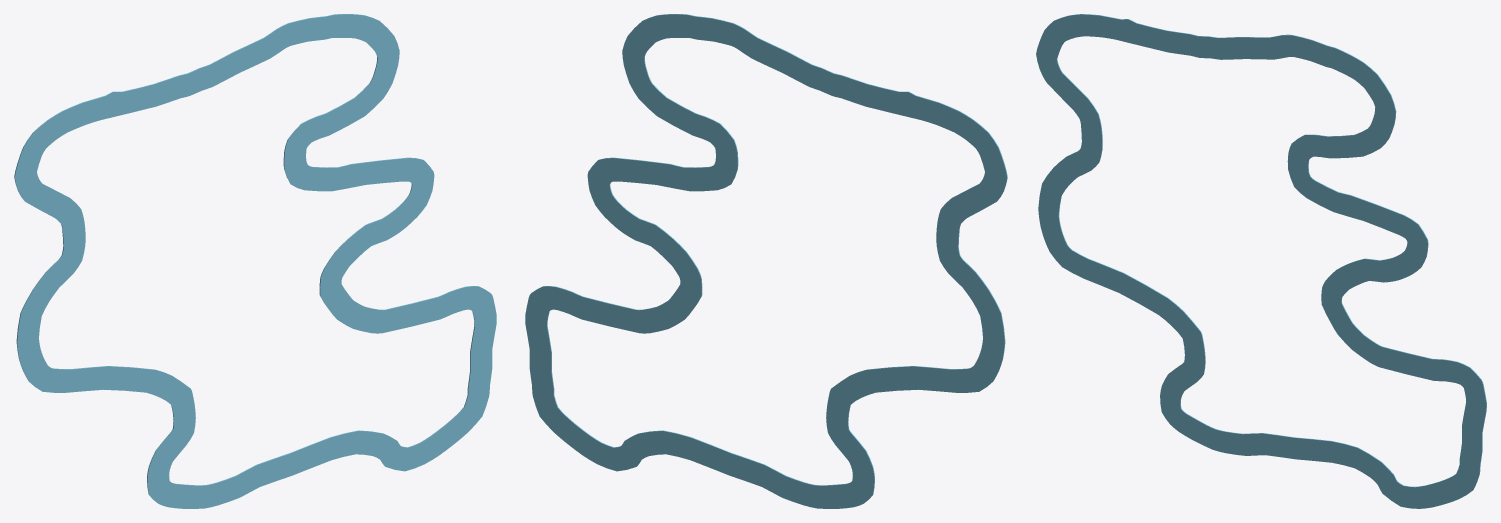
Rendered from tinker.obj.
3 views of the same model, side by side, from view 1: azimuth 30°, elevation 25°; view 2: azimuth 150°, elevation 25°; view 3: azimuth 330°, elevation 25° (orthographic). The views are drawn at different scales.
Parts seen in each view (by area): view 1: obj_0; view 2: obj_0; view 3: obj_0.
Part boxes in pixels (x1=…): obj_0: x1=14, y1=14, x2=496, y2=508; obj_0: x1=525, y1=14, x2=1007, y2=508; obj_0: x1=1036, y1=14, x2=1486, y2=508.
Bounding box in the file's own units: 44.38 × 41.9 × 0.1.
